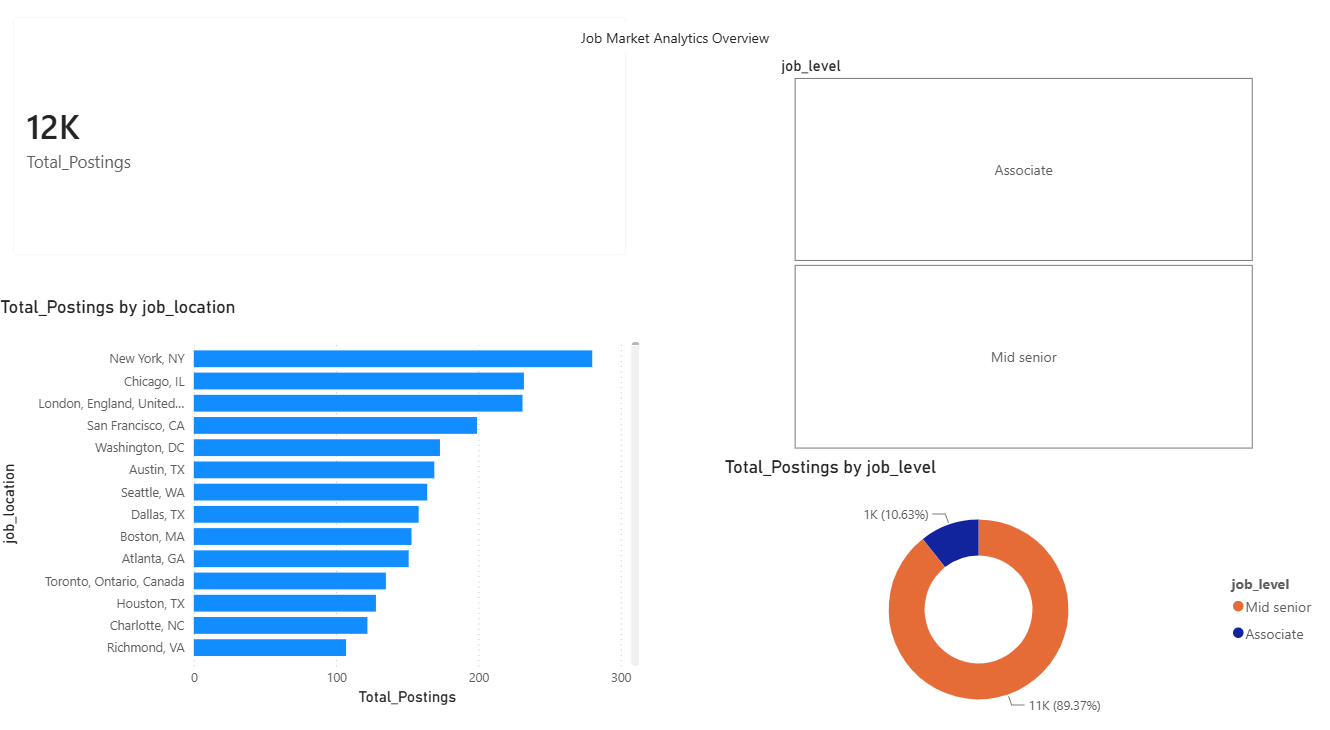

The dashboard page shown, as its layout file describes it:
{"tool":"powerbi","page":{"name":"Page 1","canvas":[1280,720],"ordinal":0},"visuals":[{"type":"donutChart","fields":{"Category":["job_postings.job_level"],"Y":["job_postings.Total_Postings"]},"box":[689.8,435.5,577.7,261.1],"z":0},{"type":"clusteredBarChart","fields":{"Category":["job_postings.job_location"],"Y":["job_postings.Total_Postings"]},"box":[0,282.9,618.6,394.3],"z":1000},{"type":"slicer","fields":{"Values":["job_postings.job_level"]},"box":[736.1,50.1,486,385],"z":2000},{"type":"cardVisual","fields":{"Data":["job_postings.Total_Postings"]},"box":[0,0,618.4,261.1],"z":3000},{"type":"textbox","box":[553.3,21.7,230.6,28.8],"z":3003}]}

Visuals, with their boxes in screenshot pixels (x1, y1, x2, y2), scaled from the page's 1280x720 canvas onto the 1330x730 screenshot:
donutChart - job_postings.job_level x job_postings.Total_Postings: (717,442,1317,706)
clusteredBarChart - job_postings.job_location x job_postings.Total_Postings: (0,287,643,687)
slicer - job_postings.job_level: (765,51,1270,441)
cardVisual - job_postings.Total_Postings: (0,0,643,265)
textbox: (575,22,815,51)
